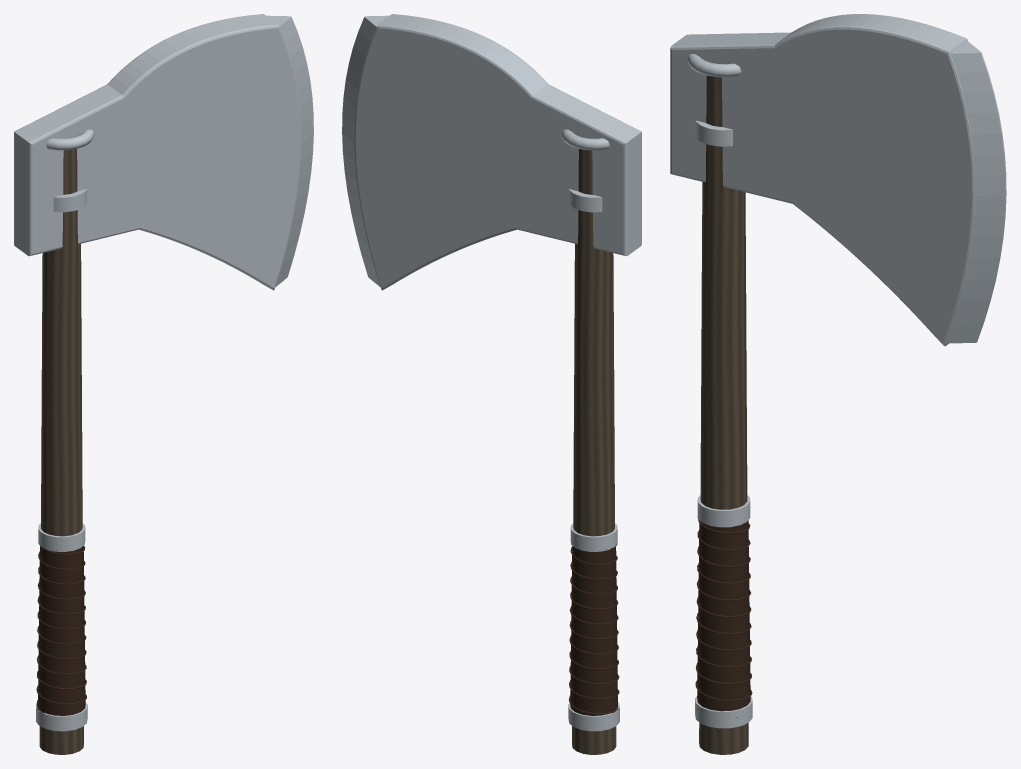
The model's file is corealm_axe_3.glb.
3 views of the same model, side by side, from view 1: azimuth 30°, elevation 25°; view 2: azimuth 150°, elevation 25°; view 3: azimuth 330°, elevation 25° (orthographic). The views are drawn at different scales.
Parts seen in each view (by area): view 1: corealm-weapon-metal, corealm-weapon-wood, corealm-weapon-leather, corealm-weapon-blade; view 2: corealm-weapon-metal, corealm-weapon-wood, corealm-weapon-leather, corealm-weapon-blade; view 3: corealm-weapon-metal, corealm-weapon-wood, corealm-weapon-leather, corealm-weapon-blade.
Boxes of the visible parts, left/top/right/bottom form: corealm-weapon-metal: left=14, top=14, right=301, bottom=731; corealm-weapon-wood: left=39, top=149, right=83, bottom=754; corealm-weapon-leather: left=36, top=545, right=86, bottom=715; corealm-weapon-blade: left=266, top=15, right=313, bottom=286; corealm-weapon-metal: left=354, top=14, right=641, bottom=731; corealm-weapon-wood: left=572, top=149, right=616, bottom=754; corealm-weapon-leather: left=569, top=541, right=619, bottom=715; corealm-weapon-blade: left=342, top=15, right=389, bottom=286; corealm-weapon-metal: left=670, top=14, right=974, bottom=728; corealm-weapon-wood: left=699, top=75, right=748, bottom=754; corealm-weapon-leather: left=695, top=517, right=752, bottom=717; corealm-weapon-blade: left=945, top=41, right=1006, bottom=343.
Bounding box in the file's own units: 0.3768 × 0.838 × 0.074.
4 materials, 2 textured.
